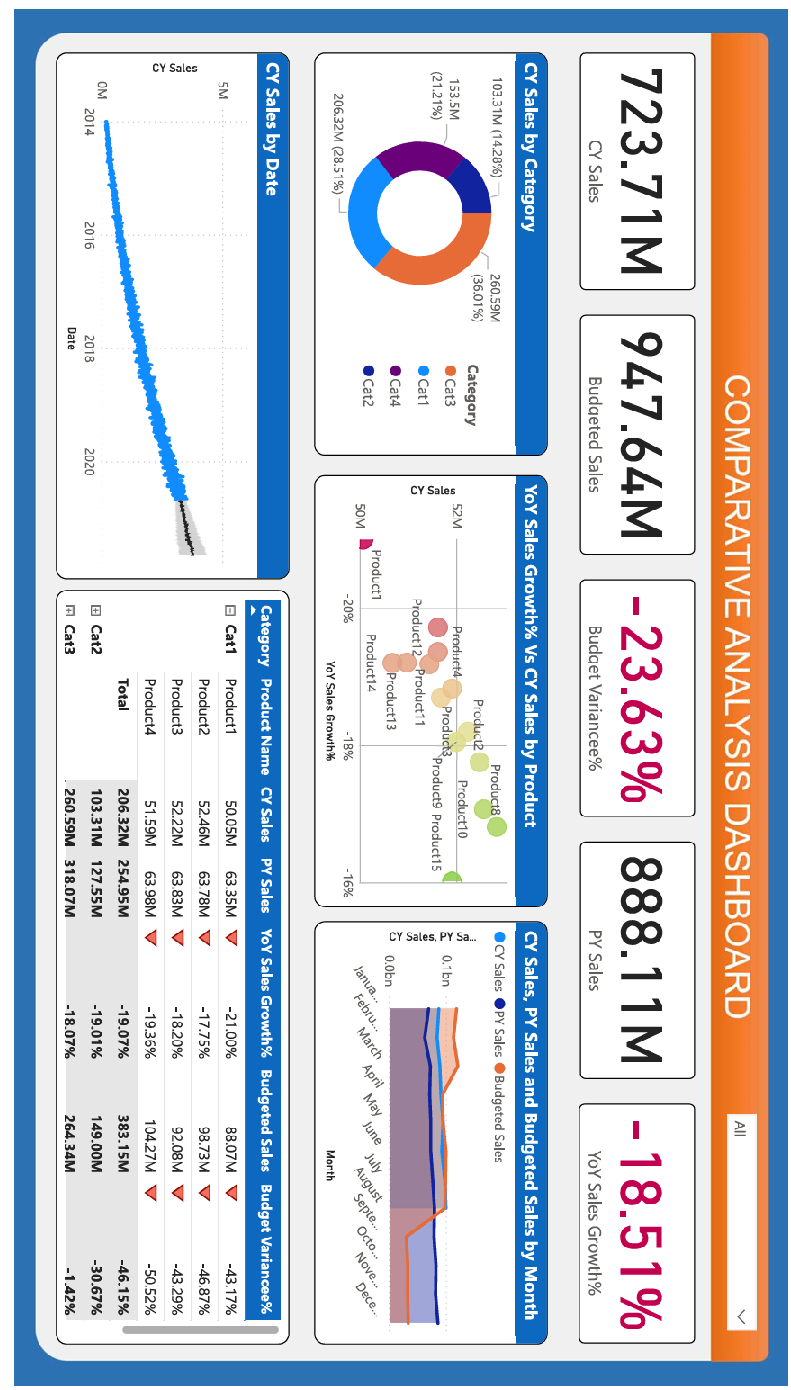

The dashboard page shown, as its layout file describes it:
{"tool":"powerbi","page":{"name":"Dahsboard","canvas":[1280,720],"ordinal":0},"visuals":[{"type":"group","id":"g1","title":"Group 1","box":[41.7,85,1195,121.7],"z":0},{"type":"card","fields":{"Values":["Sales.CY Sales"]},"box":[41.7,85,219.9,118.6],"z":0,"group":"g2"},{"type":"group","id":"g2","title":"Group 2","box":[41.7,85,1195,121.7],"z":6,"group":"g1"},{"type":"slicer","fields":{"Values":["Date Dim.Year","Date Dim.Qtr","Date Dim.Month"]},"box":[1018,19.1,221.1,55.7],"z":1000},{"type":"card","fields":{"Values":["Sales.Budgeted Sales"]},"box":[284.7,85,221.3,118.6],"z":1000,"group":"g2"},{"type":"card","fields":{"Values":["Sales.Budget Variancee%"]},"box":[529.1,85,219.9,118.6],"z":2000,"group":"g2"},{"type":"donutChart","fields":{"Category":["Product Master.Category"],"Y":["Sales.CY Sales"]},"box":[40,222.7,375.5,217.3],"z":2000},{"type":"card","fields":{"Values":["Sales.PY Sales"]},"box":[772,85,219.9,118.6],"z":3000,"group":"g2"},{"type":"scatterChart","title":"YoY Sales Growth% Vs CY Sales by Product","fields":{"Y":["Sales.CY Sales"],"X":["Sales.YoY Sales Growth%"],"Category":["Product Master.Product Name"]},"box":[432.7,222.7,401.8,217.3],"z":3000},{"type":"card","fields":{"Values":["Sales.YoY Sales Growth%"]},"box":[1015,85,221.7,119.9],"z":4000,"group":"g2"},{"type":"areaChart","fields":{"Y":["Sales.CY Sales","Sales.PY Sales","Sales.Budgeted Sales"],"Category":["Date Dim.Month"]},"box":[848.3,223.3,393.3,216.7],"z":4000},{"type":"lineChart","fields":{"Category":["Date Dim.Date"],"Y":["Sales.CY Sales"]},"box":[40,463.3,490,216.7],"z":5000},{"type":"pivotTable","fields":{"Rows":["Product Master.Category","Product Master.Product Name"],"Values":["Sales.CY Sales","Sales.PY Sales","Sales.YoY Sales Growth%","Sales.Budgeted Sales","Sales.Budget Variancee%"]},"box":[540,463.3,701.7,216.7],"z":6000}]}

Visuals, with their boxes on the page's 1280x720 design canvas (x1, y1, x2, y2). These are canvas units, not pixel positions in the 791x1390 screenshot, which may show the page scaled, cropped or inside an application window:
"Group 1" group: [left=42, top=85, right=1237, bottom=207]
card - Sales.CY Sales: [left=42, top=85, right=262, bottom=204]
"Group 2" group: [left=42, top=85, right=1237, bottom=207]
slicer - Date Dim.Year x Date Dim.Qtr: [left=1018, top=19, right=1239, bottom=75]
card - Sales.Budgeted Sales: [left=285, top=85, right=506, bottom=204]
card - Sales.Budget Variancee%: [left=529, top=85, right=749, bottom=204]
donutChart - Product Master.Category x Sales.CY Sales: [left=40, top=223, right=416, bottom=440]
card - Sales.PY Sales: [left=772, top=85, right=992, bottom=204]
"YoY Sales Growth% Vs CY Sales by Product" scatterChart: [left=433, top=223, right=834, bottom=440]
card - Sales.YoY Sales Growth%: [left=1015, top=85, right=1237, bottom=205]
areaChart - Sales.CY Sales x Sales.PY Sales: [left=848, top=223, right=1242, bottom=440]
lineChart - Date Dim.Date x Sales.CY Sales: [left=40, top=463, right=530, bottom=680]
pivotTable - Product Master.Category x Product Master.Product Name: [left=540, top=463, right=1242, bottom=680]
